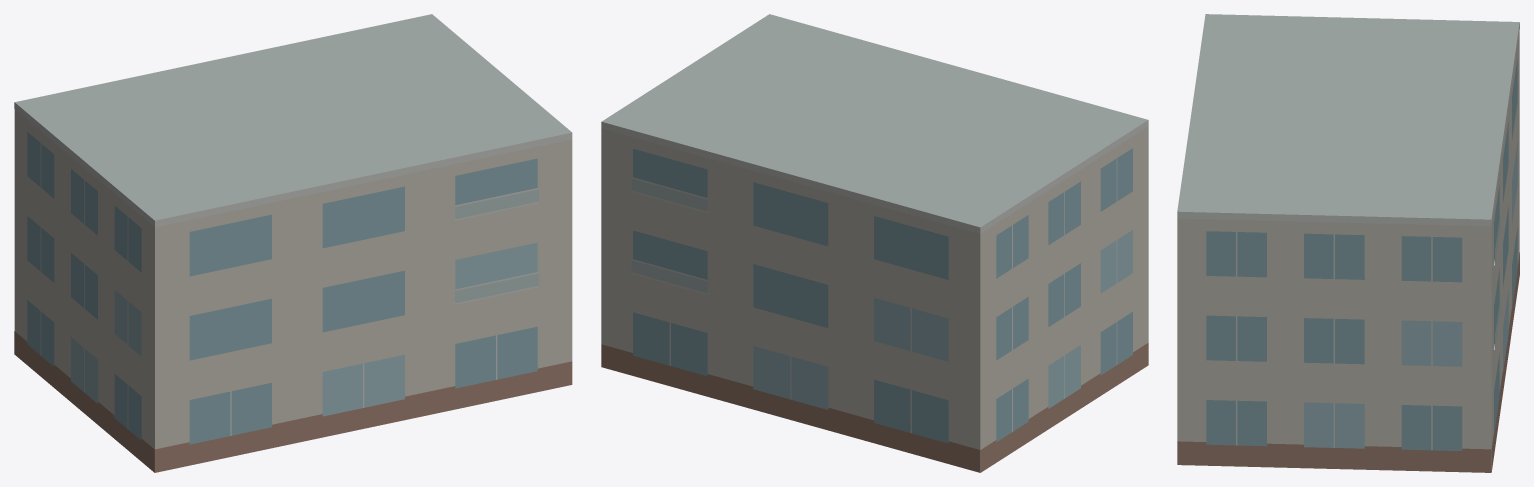
File: survey-upis-32718317.glb
3 renders of one model, left to right at view 1: azimuth 30°, elevation 25°; view 2: azimuth 150°, elevation 25°; view 3: azimuth 270°, elevation 25°, orthographic. The views are drawn at different scales.
Visible parts, largest first — view 1: survey-upis-32718317.tmp; view 2: survey-upis-32718317.tmp; view 3: survey-upis-32718317.tmp.
Boxes of the visible parts, x1,y1,x2,y2 form: survey-upis-32718317.tmp: [14, 14, 572, 472]; survey-upis-32718317.tmp: [601, 14, 1148, 472]; survey-upis-32718317.tmp: [1177, 14, 1519, 472].
Bounding box in the file's own units: 15.95 × 9.15 × 11.23.
